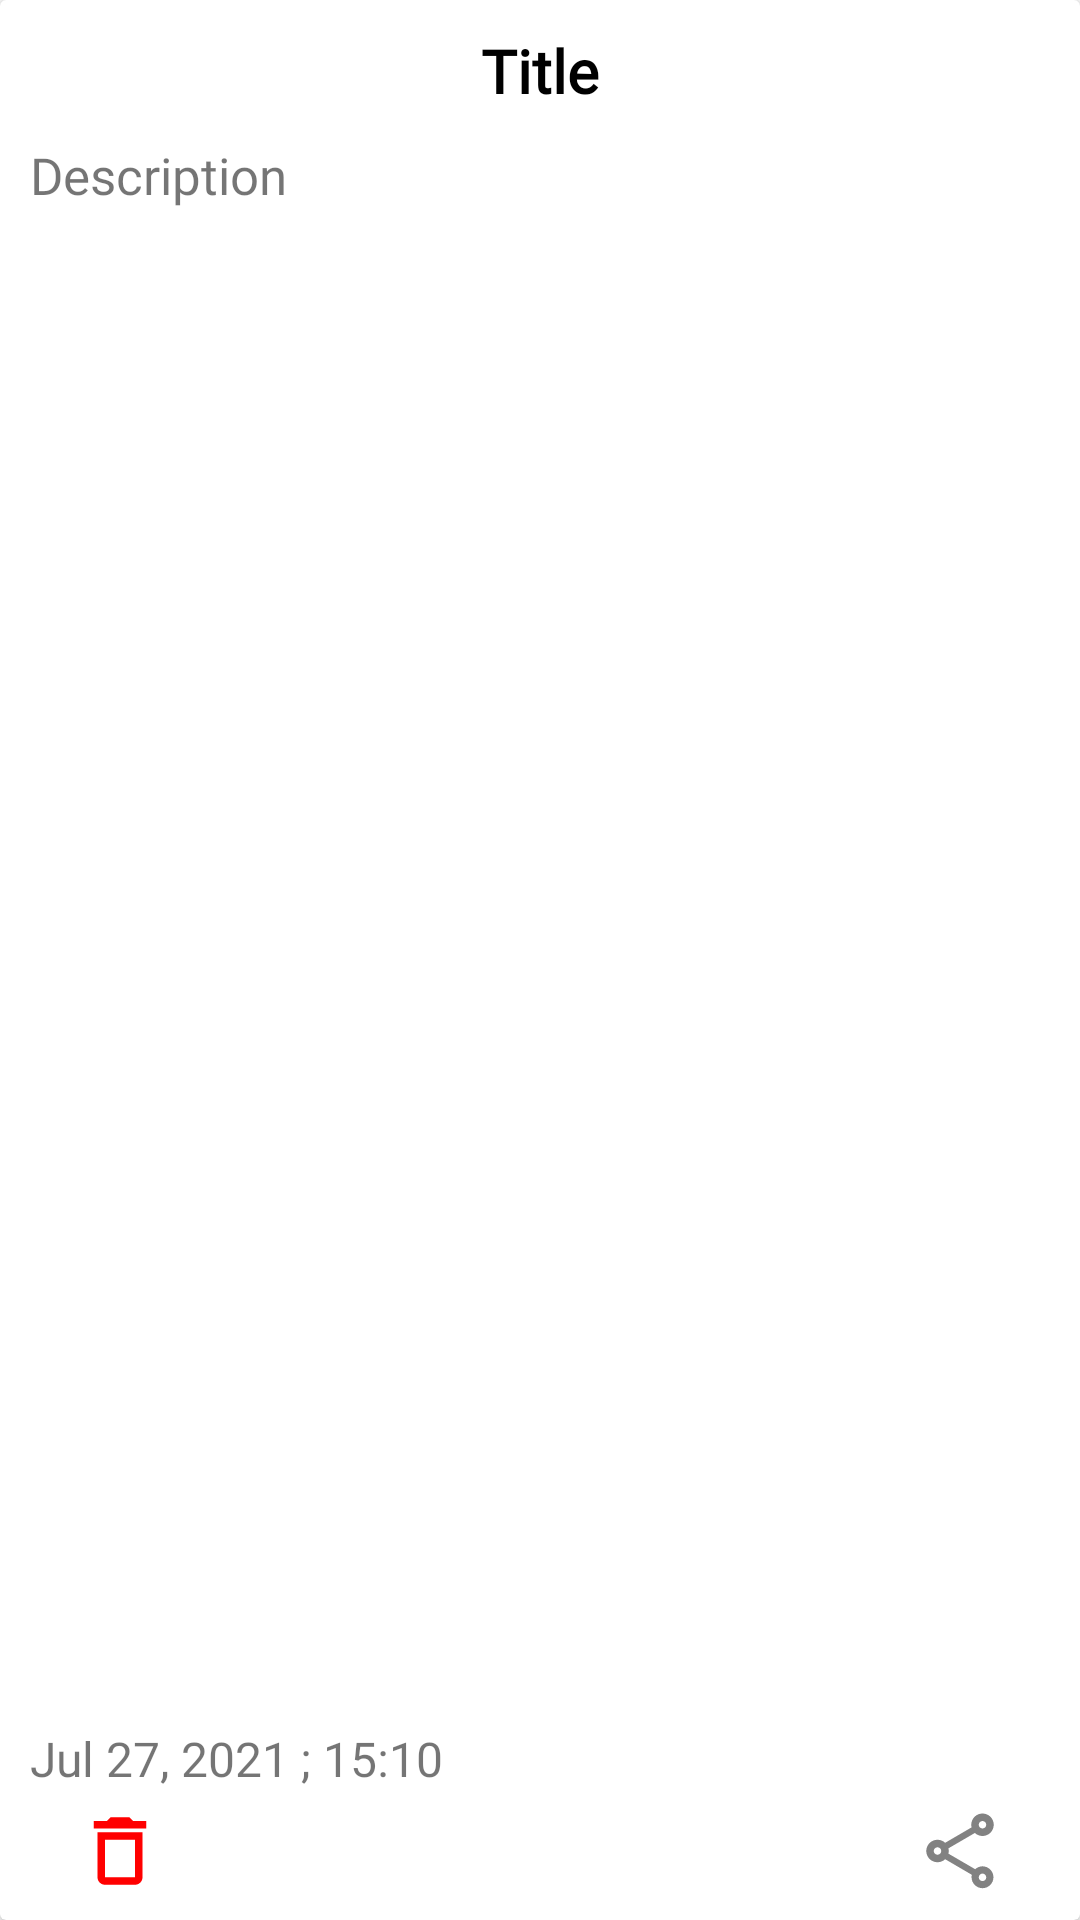

Icon click points for this 1080w x 1920h phone screenshot, format [x,y]:
delete: [120,1851]
share: [960,1851]
